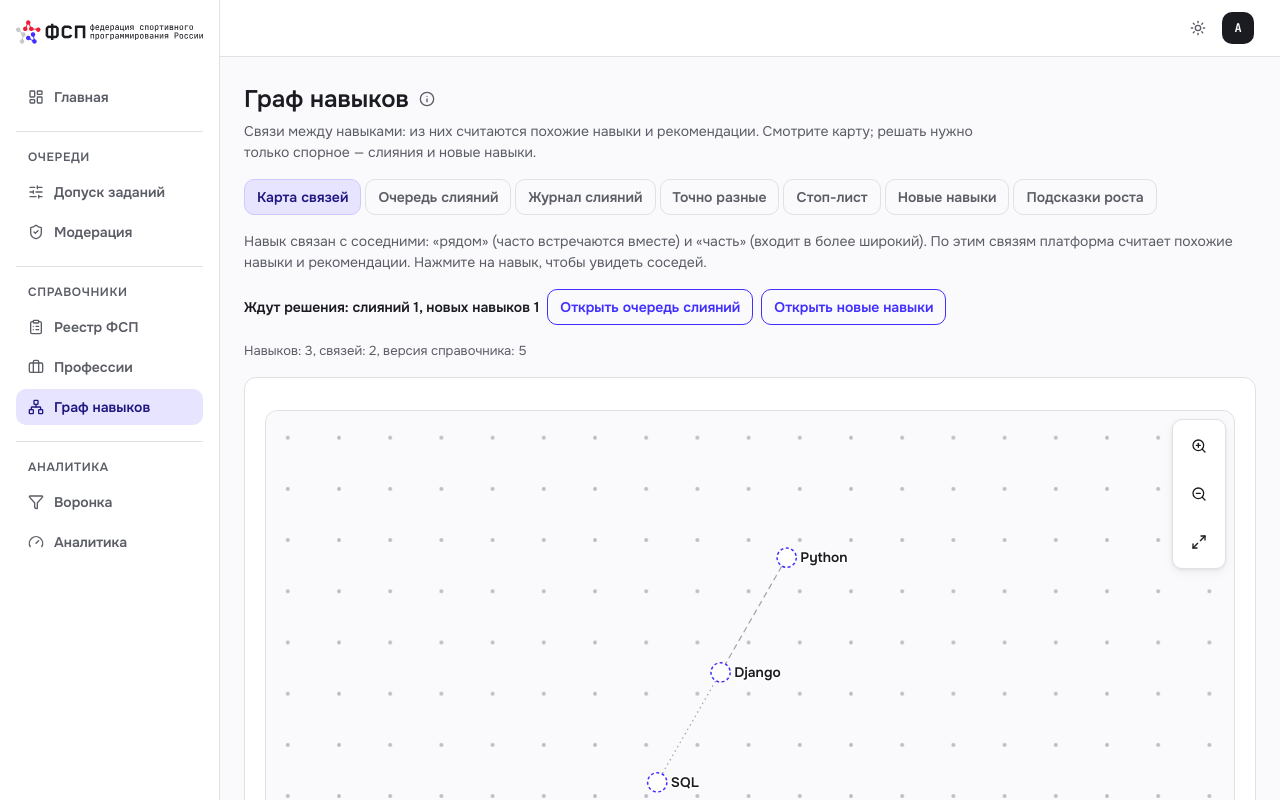
Test: /admin/skills › карта связей: назначение, граф и что ждёт решения
The width and height of the screenshot is (1280, 800).
Expected: the text with test id "page-why" shows "похожие навыки и рекомендации", [244,122,973,161]
Expected: the text with test id "admin-sk-graph-summary" shows "Навыков: 3, связей: 2", [244,342,527,359]
What coordinates should you click on to do the following:
click the button with test id "admin-sk-graph-to-queue"
I would click on:
 (650, 307)
Its box is [547,289,753,325].
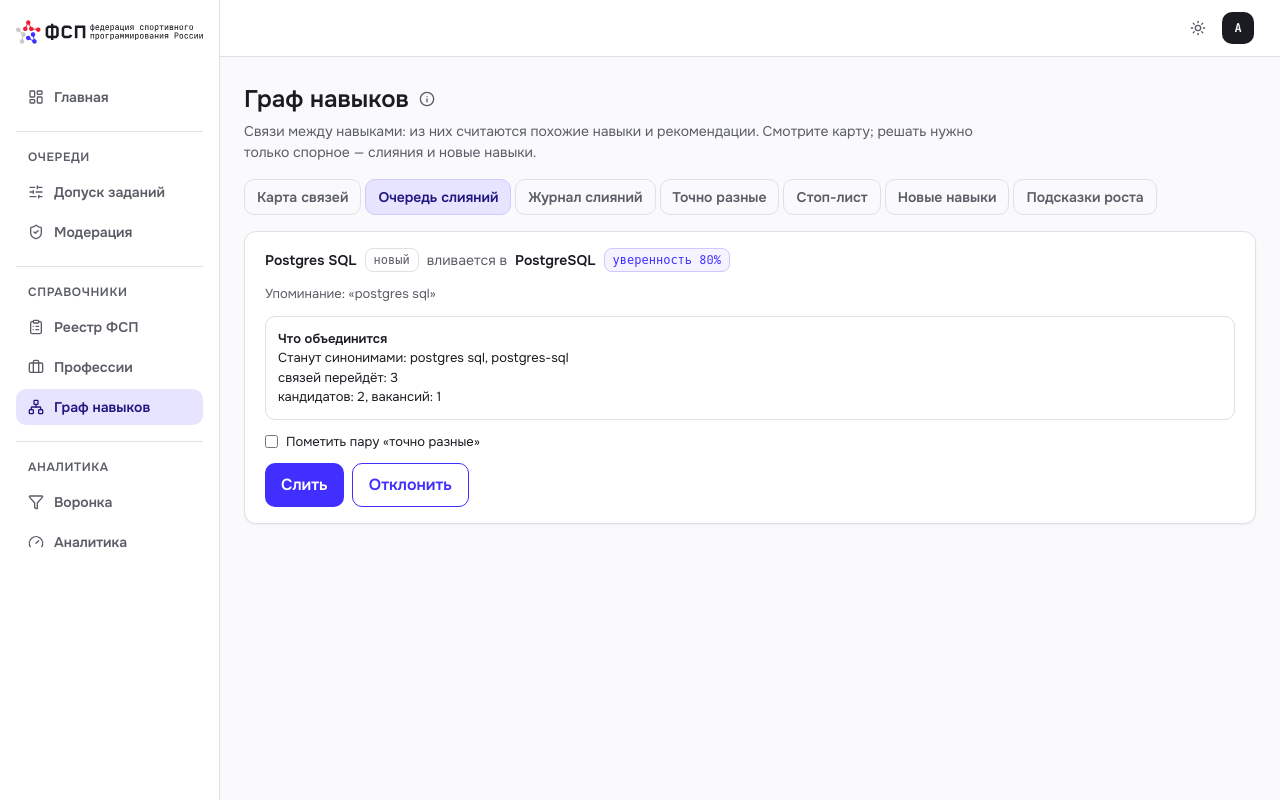
Result: the element with test id "admin-sk-preview-postgres-sql" is shown at [265,316,1235,420]
